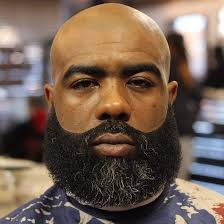black_male: (44, 4, 183, 219)
